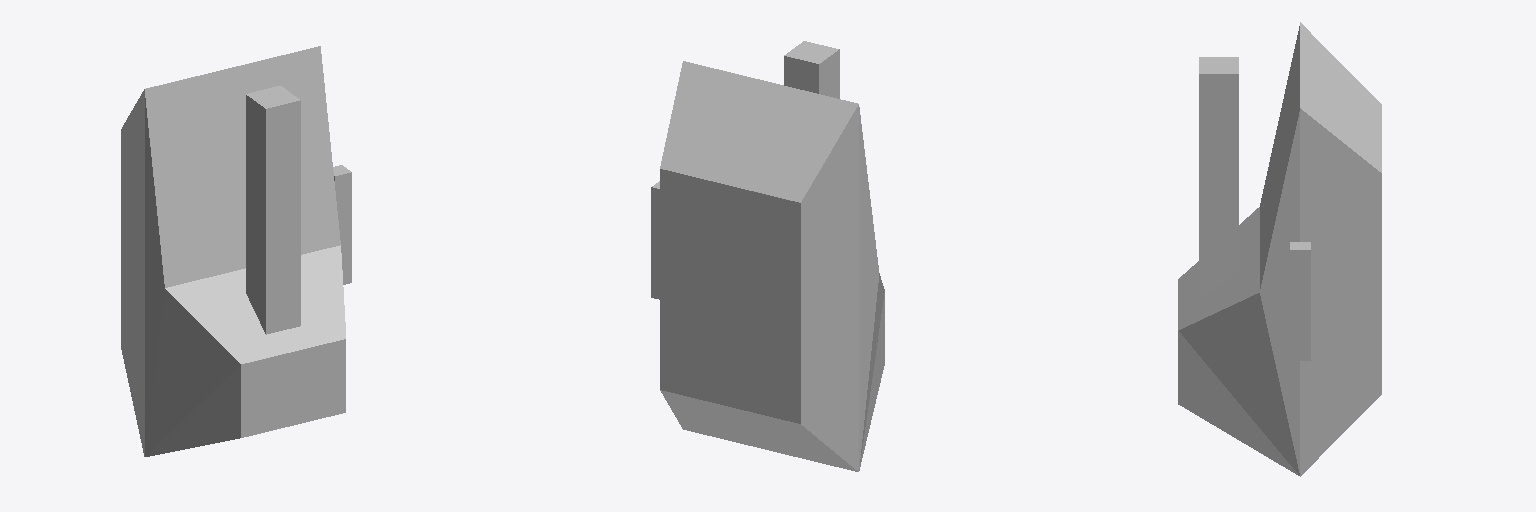
File: heavytank4-z+y.obj
3 renders of one model, left to right at view 1: azimuth 30°, elevation 25°; view 2: azimuth 150°, elevation 25°; view 3: azimuth 270°, elevation 25°, orthographic.
Visible parts, largest first — view 1: Cube; view 2: Cube; view 3: Cube.
Boxes of the visible parts, x1=… form: Cube: x1=121, y1=46, x2=351, y2=456; Cube: x1=651, y1=41, x2=884, y2=471; Cube: x1=1178, y1=22, x2=1381, y2=476.
Bounding box in the file's own units: 1.15 × 2 × 1.